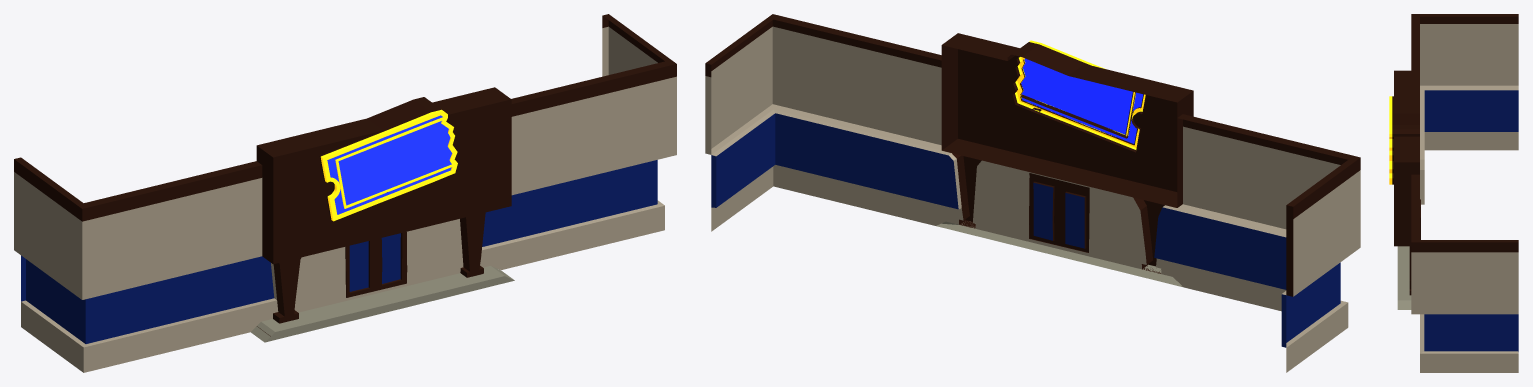
Rendered from Blockbusterv1.fbx.
3 renders of one model, left to right at view 1: azimuth 30°, elevation 25°; view 2: azimuth 150°, elevation 25°; view 3: azimuth 270°, elevation 25°, orthographic. The views are drawn at different scales.
Parts seen in each view (by area): view 1: the-story-of-blockbuster-video; view 2: the-story-of-blockbuster-video; view 3: the-story-of-blockbuster-video.
Part boxes in pixels (<box>): the-story-of-blockbuster-video: <box>14,14,676,372</box>; the-story-of-blockbuster-video: <box>705,14,1360,372</box>; the-story-of-blockbuster-video: <box>1389,14,1518,372</box>.
Size of the model in its own units: 758 by 235 by 181.
